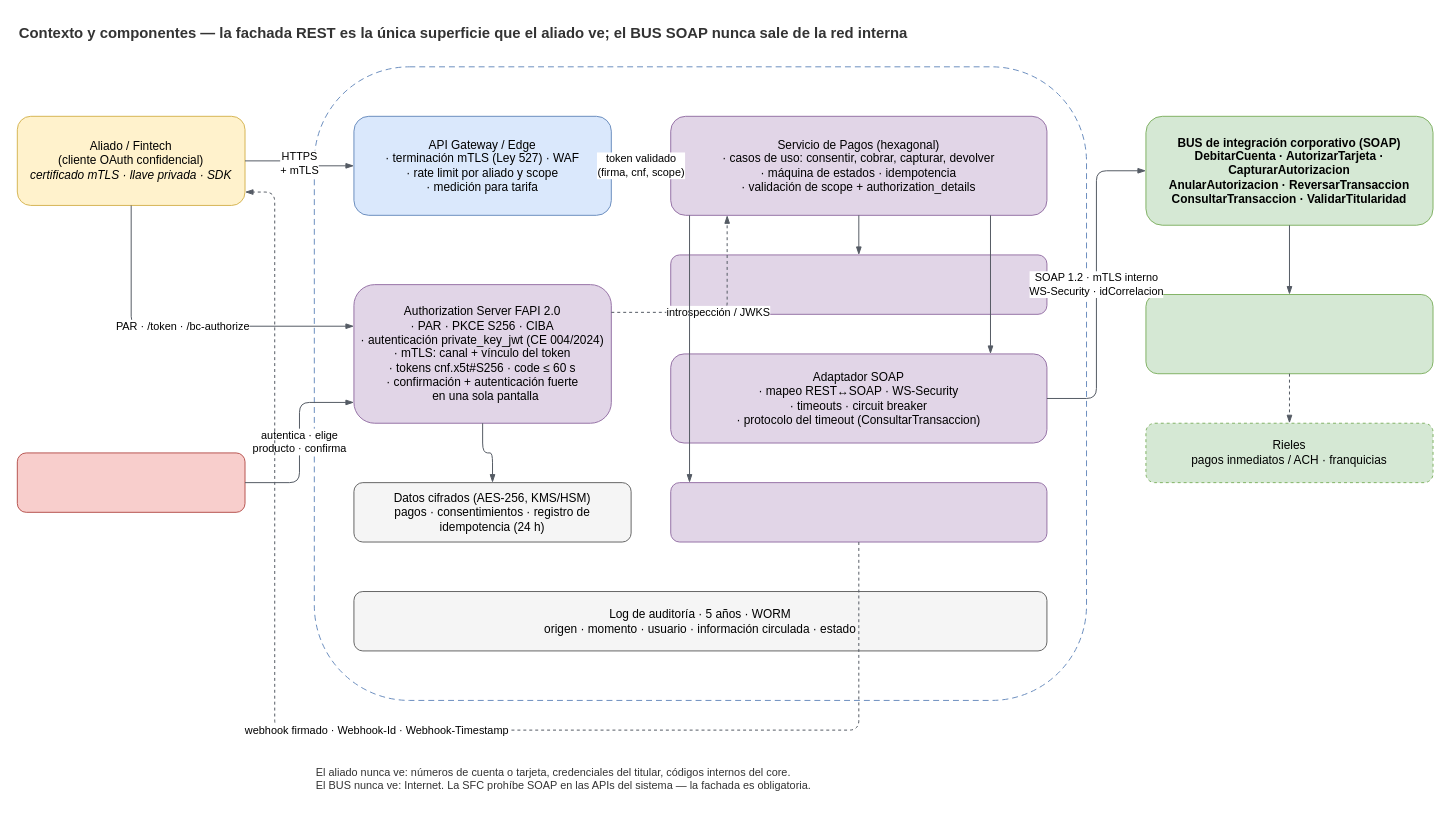
Some shapes in this 1450 by 826 pixel diagram are drawn without their labels. Here are the shapes that lost their labels. From the top down, the box of each, then its label:
(670, 254, 1047, 314): Consent Service ciclo de vida · revocación · artefacto firmado
(1145, 294, 1433, 374): Core bancario cuentas de ahorro · tarjetas de crédito límites · GMF · cupo
(313, 66, 1087, 700): Red lógicamente separada — sistema de finanzas abiertas (CE 004/2024, 3.1)
(16, 452, 245, 512): Titular (cliente de la entidad)
(670, 482, 1047, 542): Eventos outbox → cola → webhooks firmados (RFC 9421) + feed /events
